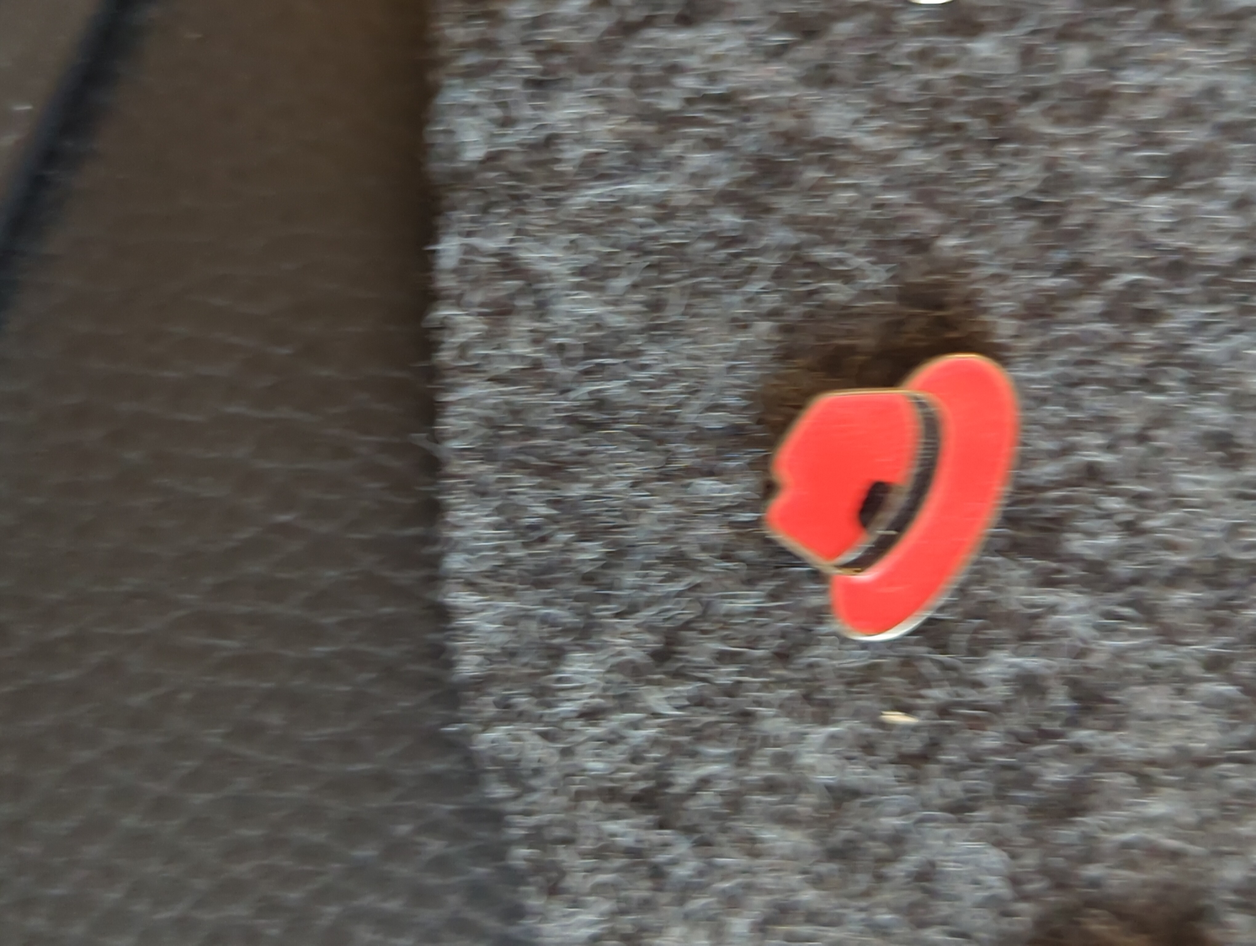Red-Hat: (658, 241, 1130, 746)
Scratch: (837, 449, 917, 546)
